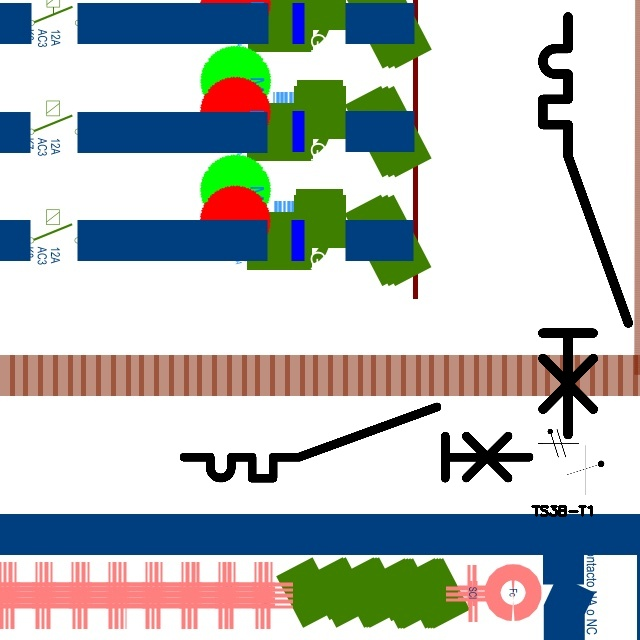interruptor_termomagnetico: (532, 6, 639, 445), (175, 398, 538, 487)
